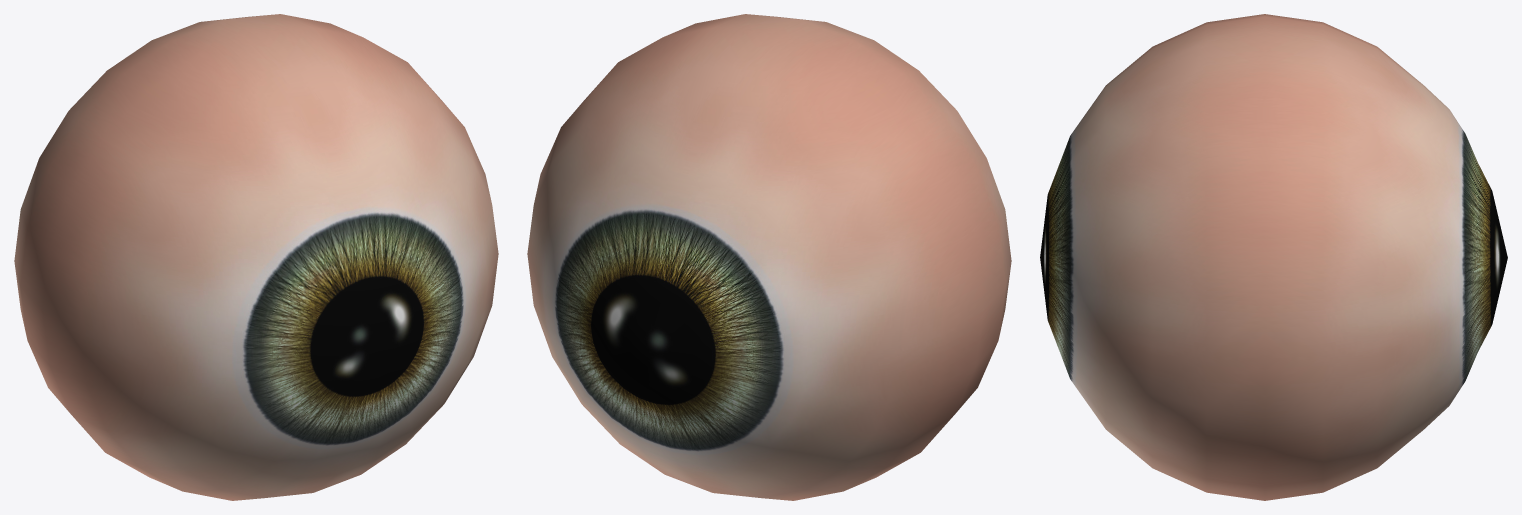
File: Human_Eye.glb
The picture shows the model from 3 angles, left to right: view 1: azimuth 30°, elevation 25°; view 2: azimuth 150°, elevation 25°; view 3: azimuth 270°, elevation 25°; orthographic projection.
Parts seen in each view (by area): view 1: mesh_id6; view 2: mesh_id6; view 3: mesh_id6.
Boxes of the visible parts, left/top/right/bottom form: mesh_id6: left=14, top=14, right=498, bottom=500; mesh_id6: left=527, top=14, right=1011, bottom=500; mesh_id6: left=1040, top=14, right=1507, bottom=500.
Size of the model in its own units: 0.512 by 0.512 by 0.49.
Materials: 4 (4 with a texture image).
